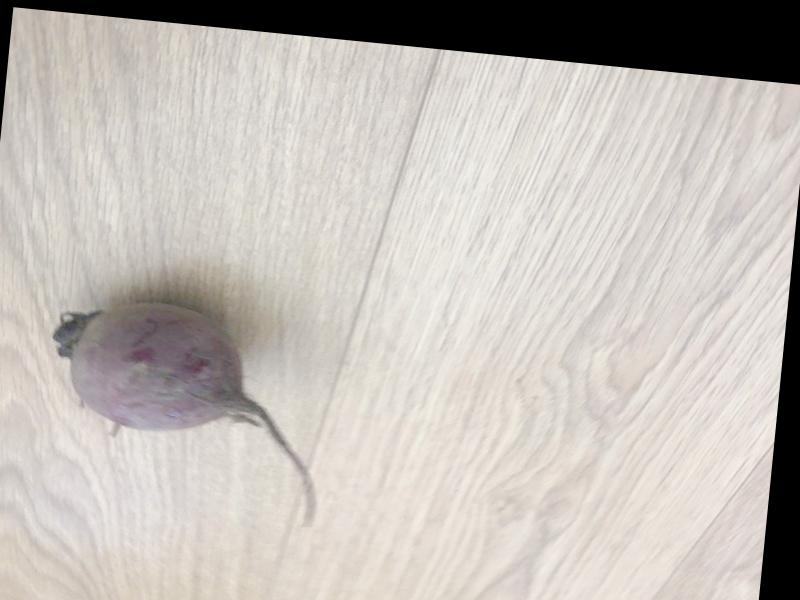Beet: (41, 292, 339, 527)
